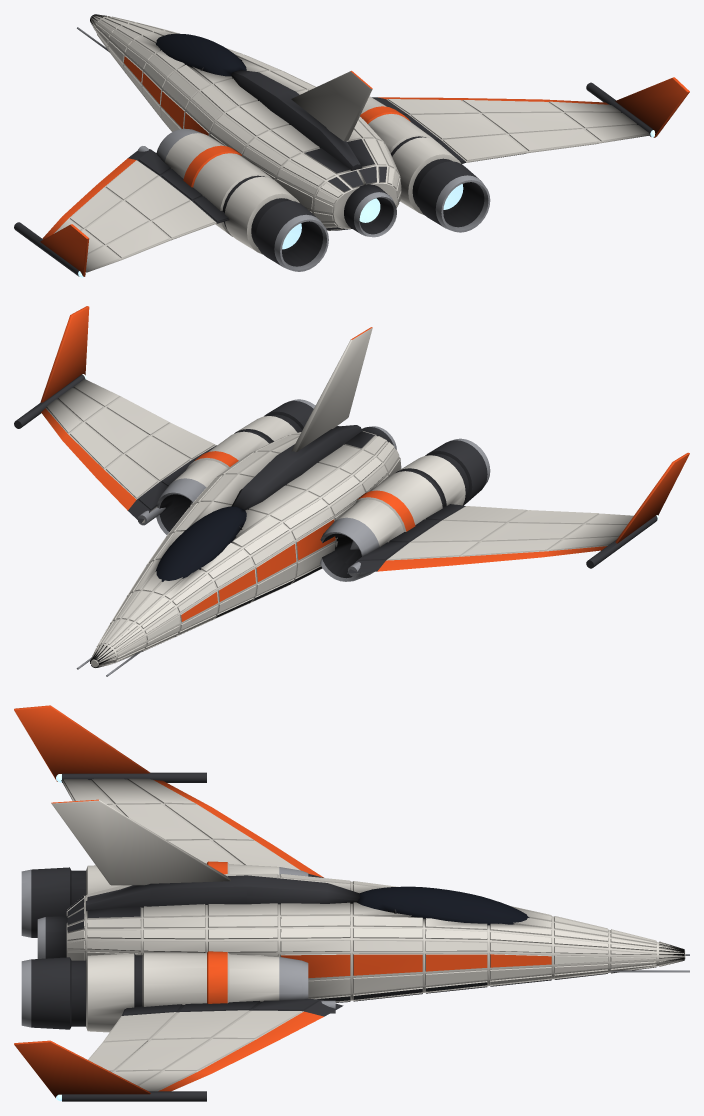
File: ship.glb
3 views of the same model, one above another, from view 1: azimuth 30°, elevation 25°; view 2: azimuth 150°, elevation 25°; view 3: azimuth 270°, elevation 25° (orthographic). The views are drawn at different scales.
Visible parts, largest first — view 1: ship_body, wing_R, wing_L; view 2: ship_body, wing_R, wing_L; view 3: ship_body, wing_R, wing_L.
Boxes of the visible parts, left/top/right/bottom form: ship_body: left=77, top=14, right=490, bottom=271; wing_R: left=372, top=77, right=689, bottom=163; wing_L: left=14, top=146, right=229, bottom=277; ship_body: left=76, top=327, right=490, bottom=676; wing_R: left=14, top=306, right=216, bottom=525; wing_L: left=347, top=452, right=689, bottom=576; ship_body: left=21, top=799, right=689, bottom=1032; wing_R: left=14, top=999, right=343, bottom=1101; wing_L: left=14, top=705, right=323, bottom=877.
Bounding box in the file's own units: 4.95 × 1.28 × 4.2.
